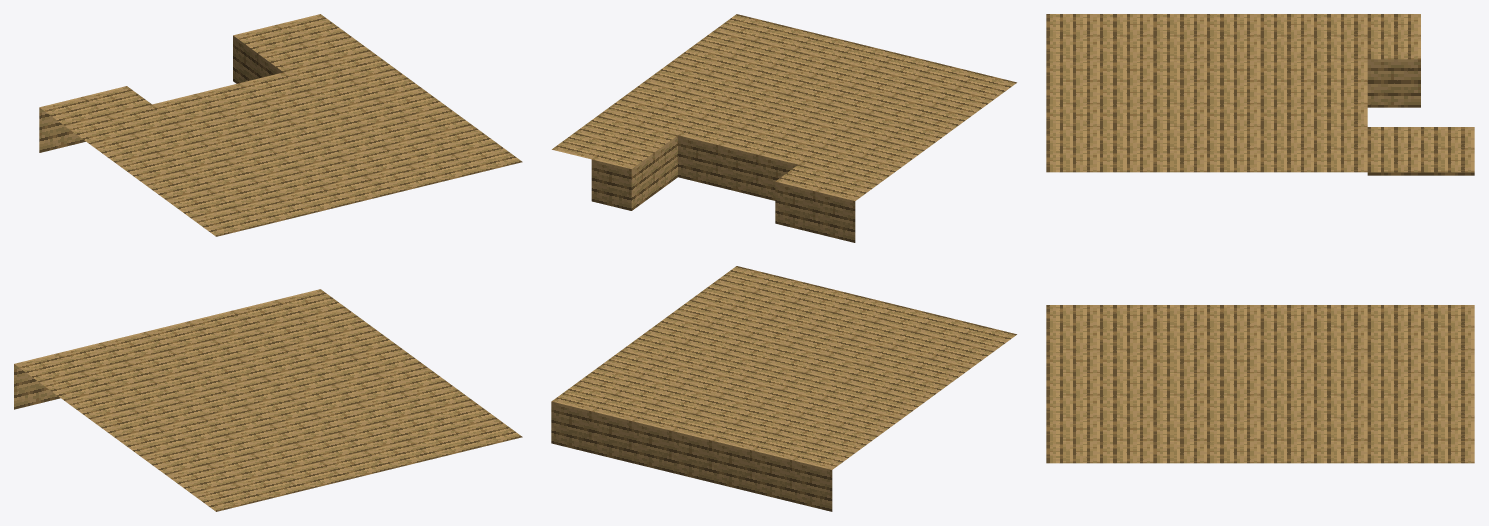
The model's file is Oak_Planks_Chunk_31_0.fbx.
3 views of the same model, side by side, from view 1: azimuth 30°, elevation 25°; view 2: azimuth 150°, elevation 25°; view 3: azimuth 270°, elevation 25° (orthographic). The views are drawn at different scales.
Visible parts, largest first — view 1: Oak_Planks_Chunk_31_0; view 2: Oak_Planks_Chunk_31_0; view 3: Oak_Planks_Chunk_31_0.
Boxes of the visible parts, left/top/right/bottom form: Oak_Planks_Chunk_31_0: left=14, top=14, right=522, bottom=511; Oak_Planks_Chunk_31_0: left=551, top=14, right=1016, bottom=511; Oak_Planks_Chunk_31_0: left=1046, top=14, right=1474, bottom=463.
Size of the model in its own units: 700 by 700 by 800.
Materials: 1 (1 with a texture image).
